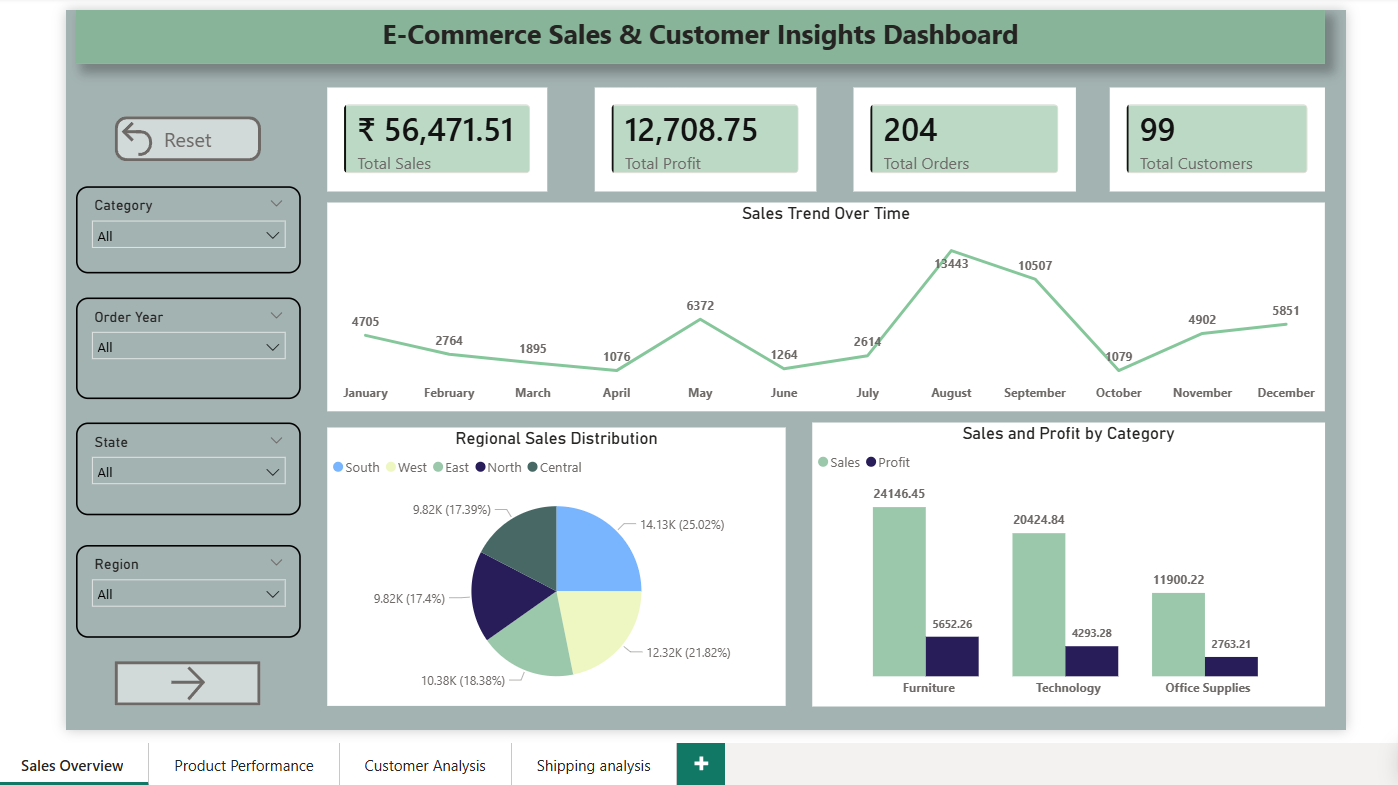

The dashboard page shown, as its layout file describes it:
{"tool":"powerbi","page":{"name":"Sales Overview","canvas":[1280,720],"ordinal":0},"visuals":[{"type":"textbox","box":[10,0,1248.8,53.8],"z":0},{"type":"cardVisual","fields":{"Data":["Superstore_India.Total Sales"]},"box":[261.2,77.5,220,103.8],"z":1000},{"type":"cardVisual","fields":{"Data":["Superstore_India.Total Customers"]},"box":[1043.8,77.5,215,103.8],"z":2000},{"type":"cardVisual","fields":{"Data":["Superstore_India.Total Orders"]},"box":[787.5,77.5,222.5,103.8],"z":3000},{"type":"lineChart","title":"Sales Trend Over Time","fields":{"Y":["Superstore_India.Total Sales"],"Category":["Superstore_India.Order Date.Variation.Date Hierarchy.Year","Superstore_India.Order Date.Variation.Date Hierarchy.Quarter","Superstore_India.Order Date.Variation.Date Hierarchy.Month","Superstore_India.Order Date.Variation.Date Hierarchy.Day"]},"box":[261.2,192.5,997.5,208.8],"z":4000},{"type":"slicer","fields":{"Values":["Superstore_India.Category"]},"box":[10,176.2,225,87.5],"z":5000},{"type":"slicer","fields":{"Values":["Superstore_India.Order Year"]},"box":[10,287.5,225,101.2],"z":6000},{"type":"pieChart","title":"Regional Sales Distribution","fields":{"Category":["Superstore_India.Region"],"Y":["Superstore_India.Total Sales"]},"box":[261.2,417.5,458.8,278.8],"z":7000},{"type":"slicer","fields":{"Values":["Superstore_India.State"]},"box":[10,412.5,225,92.5],"z":8000},{"type":"slicer","fields":{"Values":["Superstore_India.Region"]},"box":[10,535,225,92.5],"z":9000},{"type":"clusteredColumnChart","title":"Sales and Profit by Category","fields":{"Category":["Superstore_India.Category"],"Y":["Superstore_India.Total Sales","Superstore_India.Total Profit"]},"box":[746.2,412.5,512.5,283.8],"z":10000},{"type":"cardVisual","fields":{"Data":["Superstore_India.Total Profit"]},"box":[528.4,77.2,222,103.8],"z":11000},{"type":"actionButton","box":[48.8,106.2,146.2,45],"z":12000},{"type":"actionButton","box":[48.6,651.4,145.7,44.3],"z":13000}]}

Visuals, with their boxes on the page's 1280x720 design canvas (x1, y1, x2, y2). These are canvas units, not pixel positions in the 1398x785 screenshot, which may show the page scaled, cropped or inside an application window:
textbox: [x1=10, y1=0, x2=1259, y2=54]
cardVisual - Superstore_India.Total Sales: [x1=261, y1=78, x2=481, y2=181]
cardVisual - Superstore_India.Total Customers: [x1=1044, y1=78, x2=1259, y2=181]
cardVisual - Superstore_India.Total Orders: [x1=788, y1=78, x2=1010, y2=181]
"Sales Trend Over Time" lineChart: [x1=261, y1=192, x2=1259, y2=401]
slicer - Superstore_India.Category: [x1=10, y1=176, x2=235, y2=264]
slicer - Superstore_India.Order Year: [x1=10, y1=288, x2=235, y2=389]
"Regional Sales Distribution" pieChart: [x1=261, y1=418, x2=720, y2=696]
slicer - Superstore_India.State: [x1=10, y1=412, x2=235, y2=505]
slicer - Superstore_India.Region: [x1=10, y1=535, x2=235, y2=628]
"Sales and Profit by Category" clusteredColumnChart: [x1=746, y1=412, x2=1259, y2=696]
cardVisual - Superstore_India.Total Profit: [x1=528, y1=77, x2=750, y2=181]
actionButton: [x1=49, y1=106, x2=195, y2=151]
actionButton: [x1=49, y1=651, x2=194, y2=696]
